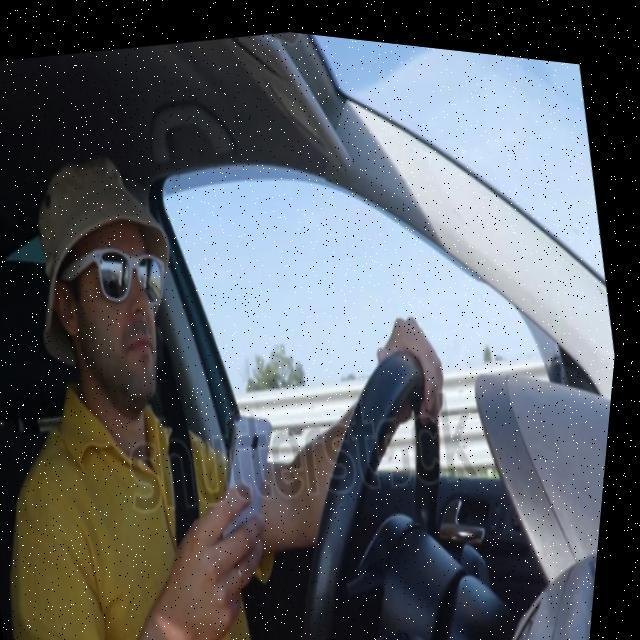PhoneCall: (202, 400, 302, 548)
